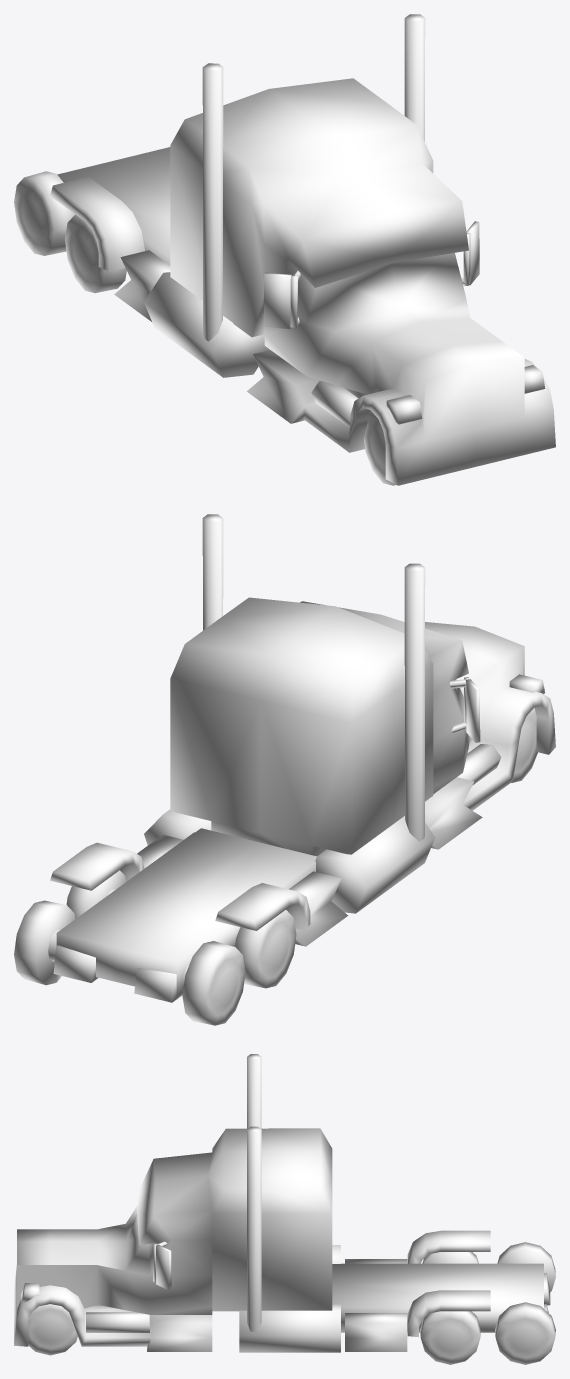
File: bigAmericantruck.glb
The picture shows the model from 3 angles, top to bottom: view 1: azimuth 30°, elevation 25°; view 2: azimuth 150°, elevation 25°; view 3: azimuth 270°, elevation 25°; orthographic projection. The views are drawn at different scales.
Visible parts, largest first — view 1: big_American_truck; view 2: big_American_truck; view 3: big_American_truck.
Part boxes in pixels (box(x1,y1,x2,y2)): big_American_truck: box(14, 14, 555, 485); big_American_truck: box(14, 514, 555, 1025); big_American_truck: box(14, 1054, 555, 1364).
Bounding box in the file's own units: 3.58 × 4.96 × 10.24.
Materials: 3 (3 with a texture image).
